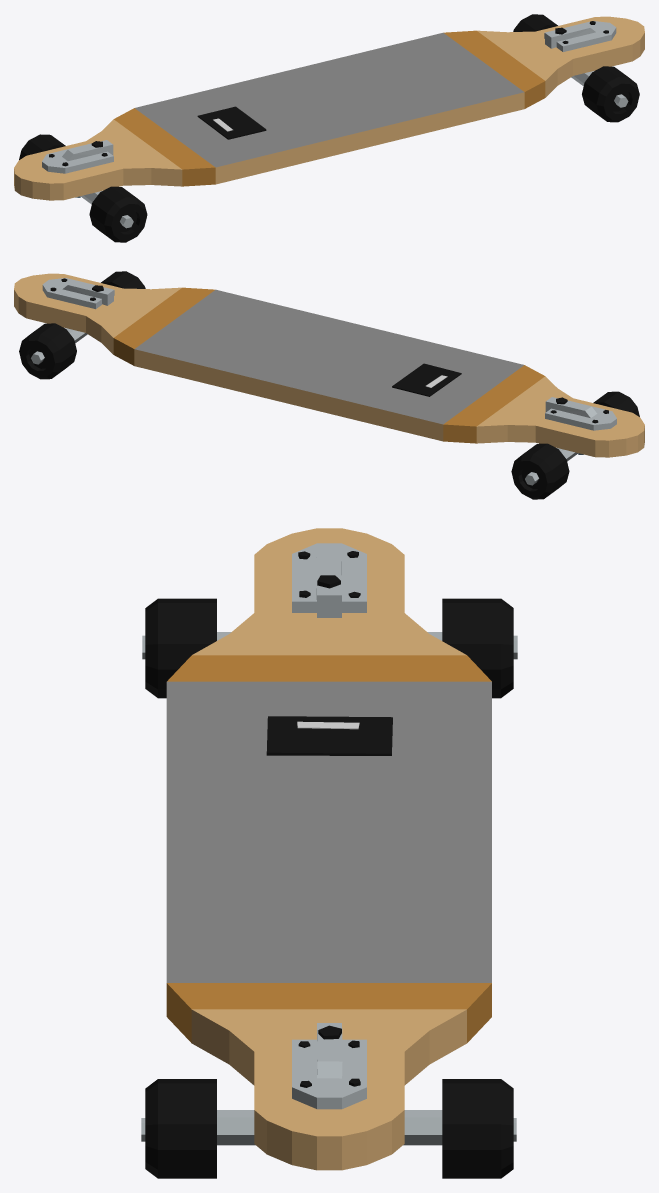
The picture shows the model from 3 angles, top to bottom: view 1: azimuth 30°, elevation 25°; view 2: azimuth 150°, elevation 25°; view 3: azimuth 270°, elevation 25°; orthographic projection. The views are drawn at different scales.
Visible parts, largest first — view 1: node_MeshObject1144538112-PolyPaper21; view 2: node_MeshObject1144538112-PolyPaper21; view 3: node_MeshObject1144538112-PolyPaper21.
Part boxes in pixels (x1=…): node_MeshObject1144538112-PolyPaper21: x1=14, y1=14, x2=644, y2=242; node_MeshObject1144538112-PolyPaper21: x1=14, y1=271, x2=644, y2=499; node_MeshObject1144538112-PolyPaper21: x1=141, y1=528, x2=517, y2=1178.
Size of the model in its own units: 1.15 by 0.114 by 0.3008.
